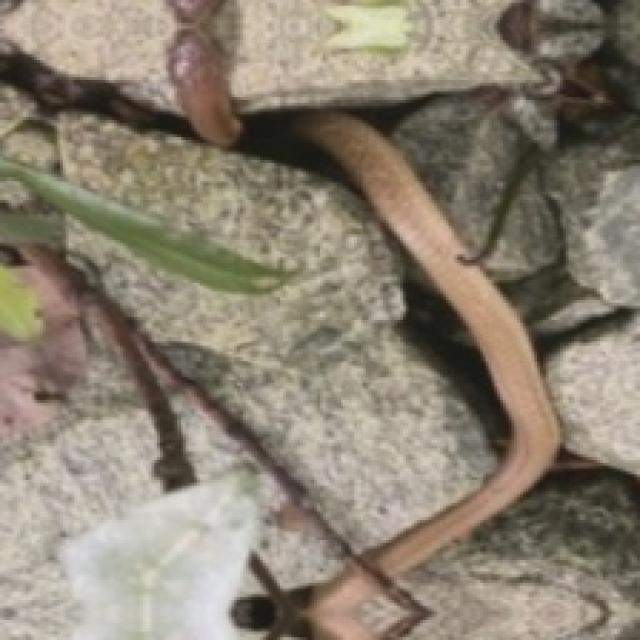king cobra: (0, 0, 603, 637), (137, 283, 497, 517), (57, 114, 151, 206)
